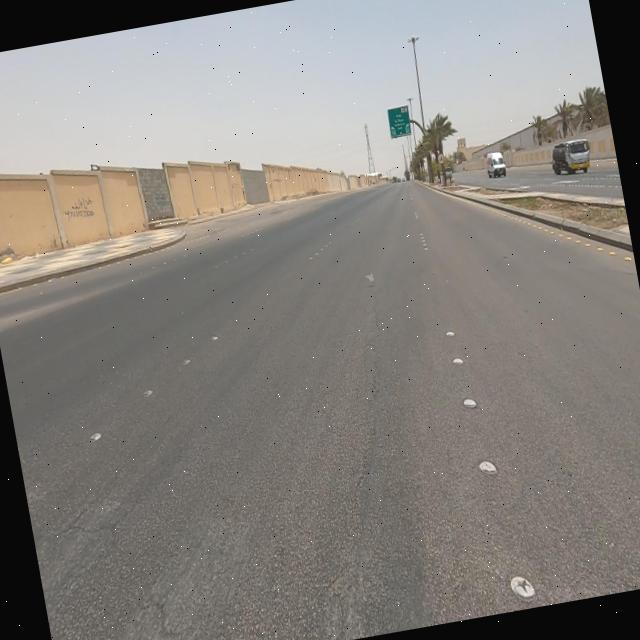Graffiti: (63, 195, 98, 227)
